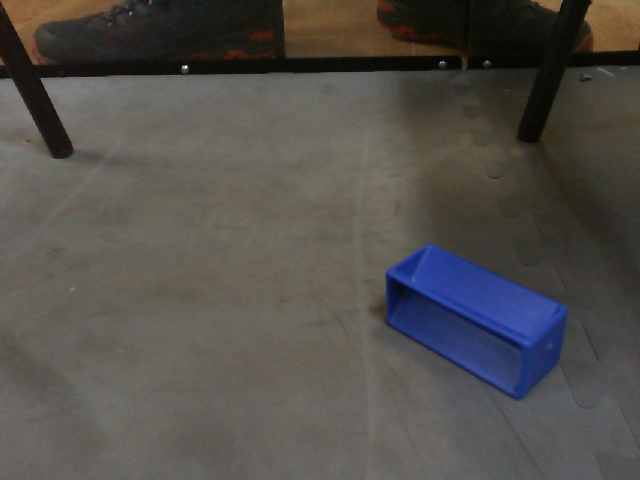BlueSample: (376, 241, 572, 403)
